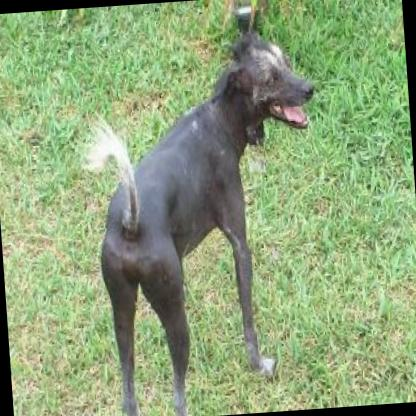Mexican_hairless: (71, 21, 334, 416)
